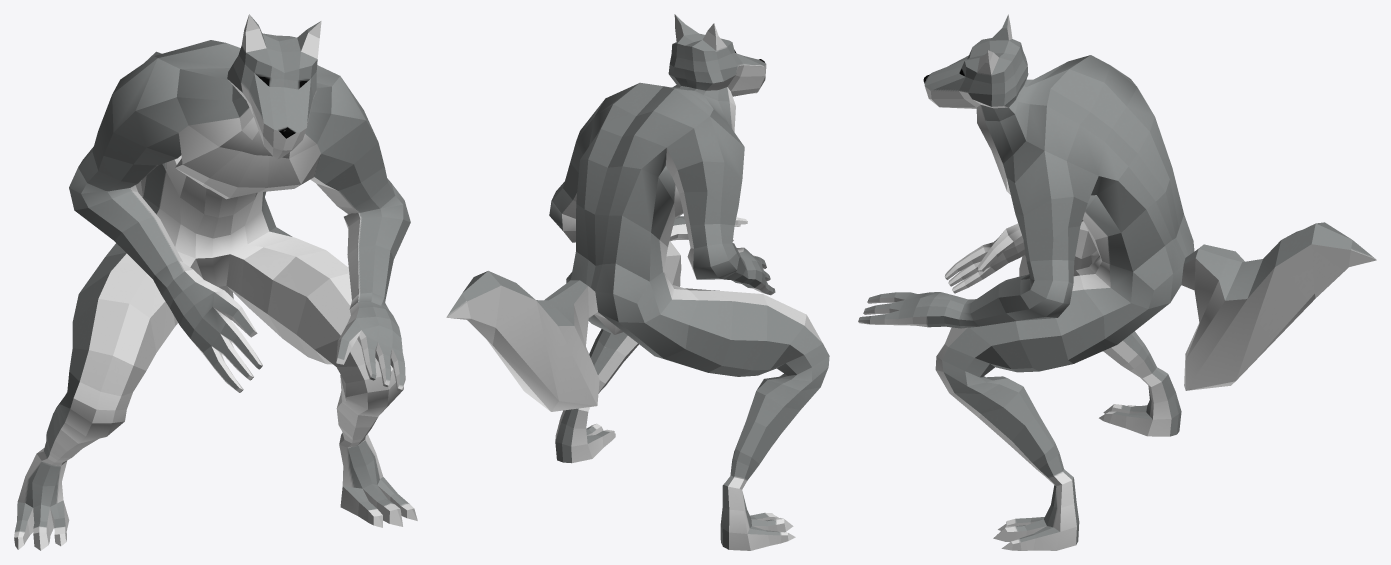
File: WolfAttack(105).obj
The picture shows the model from 3 angles, left to right: view 1: azimuth 30°, elevation 25°; view 2: azimuth 150°, elevation 25°; view 3: azimuth 270°, elevation 25°; orthographic projection. The views are drawn at different scales.
Visible parts, largest first — view 1: Box001; view 2: Box001; view 3: Box001.
Boxes of the visible parts, <box> form: Box001: <box>14,14,417,550</box>; Box001: <box>446,14,829,550</box>; Box001: <box>858,14,1376,550</box>.
Size of the model in its own units: 78.28 by 119 by 120.
